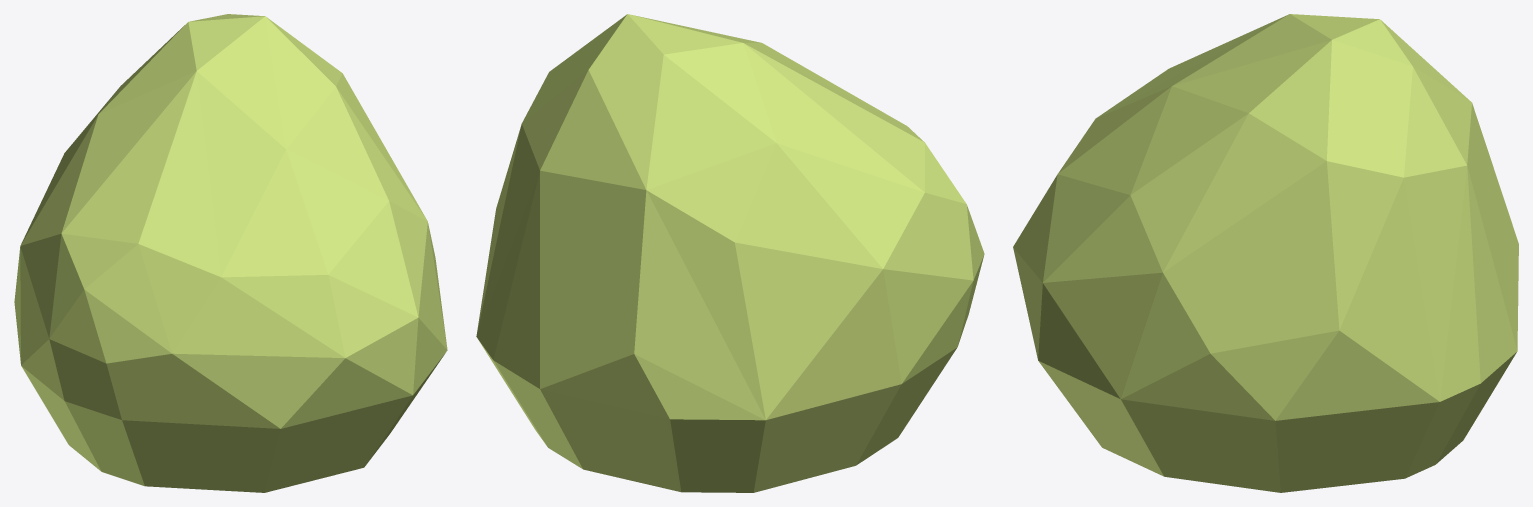
File: Bush_b_l_05.fbx
3 views of the same model, side by side, from view 1: azimuth 30°, elevation 25°; view 2: azimuth 150°, elevation 25°; view 3: azimuth 270°, elevation 25° (orthographic). The views are drawn at different scales.
Visible parts, largest first — view 1: Bush_b_l_05; view 2: Bush_b_l_05; view 3: Bush_b_l_05.
Boxes of the visible parts, x1,y1,x2,y2 form: Bush_b_l_05: (14,14,447,492); Bush_b_l_05: (476,14,984,492); Bush_b_l_05: (1013,14,1518,492).
Bounding box in the file's own units: 2.35 × 2.13 × 2.38.
